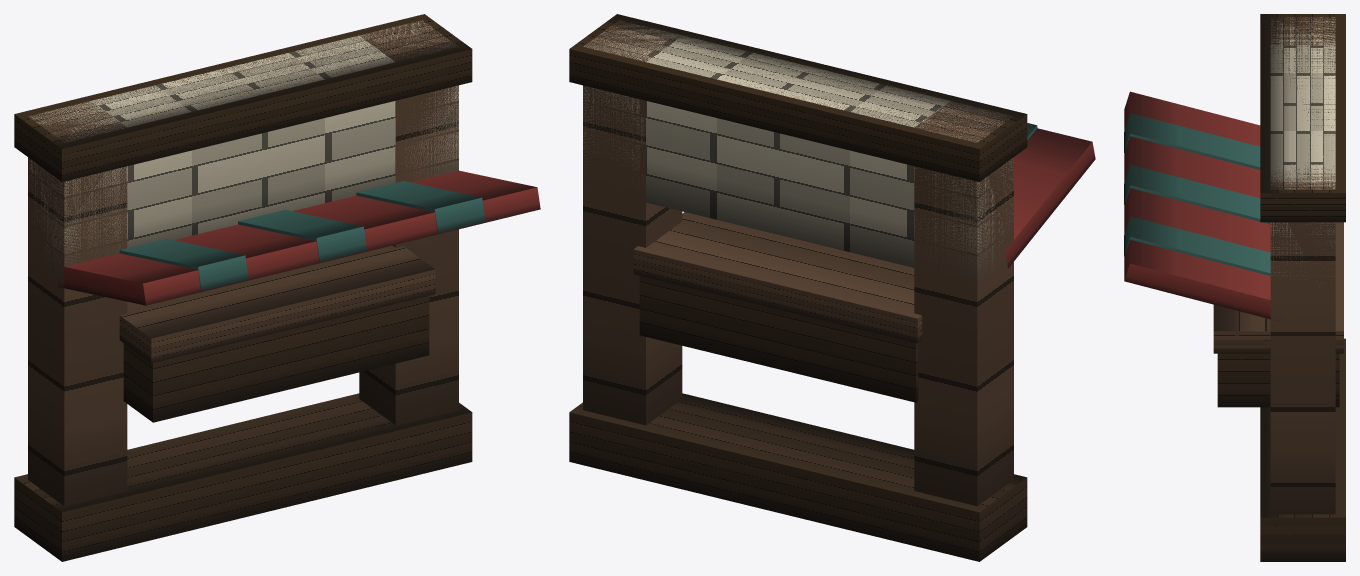
The model's file is wall_shop.gltf.
3 views of the same model, side by side, from view 1: azimuth 30°, elevation 25°; view 2: azimuth 150°, elevation 25°; view 3: azimuth 270°, elevation 25° (orthographic). The views are drawn at different scales.
Parts seen in each view (by area): view 1: wall_shop; view 2: wall_shop; view 3: wall_shop.
Part boxes in pixels (x1,y1,x2,y2): wall_shop: (14,14,540,561); wall_shop: (569,14,1095,561); wall_shop: (1124,14,1345,561).
Bounding box in the file's own units: 1.04 × 1 × 0.5448.
1 material, 1 textured.
